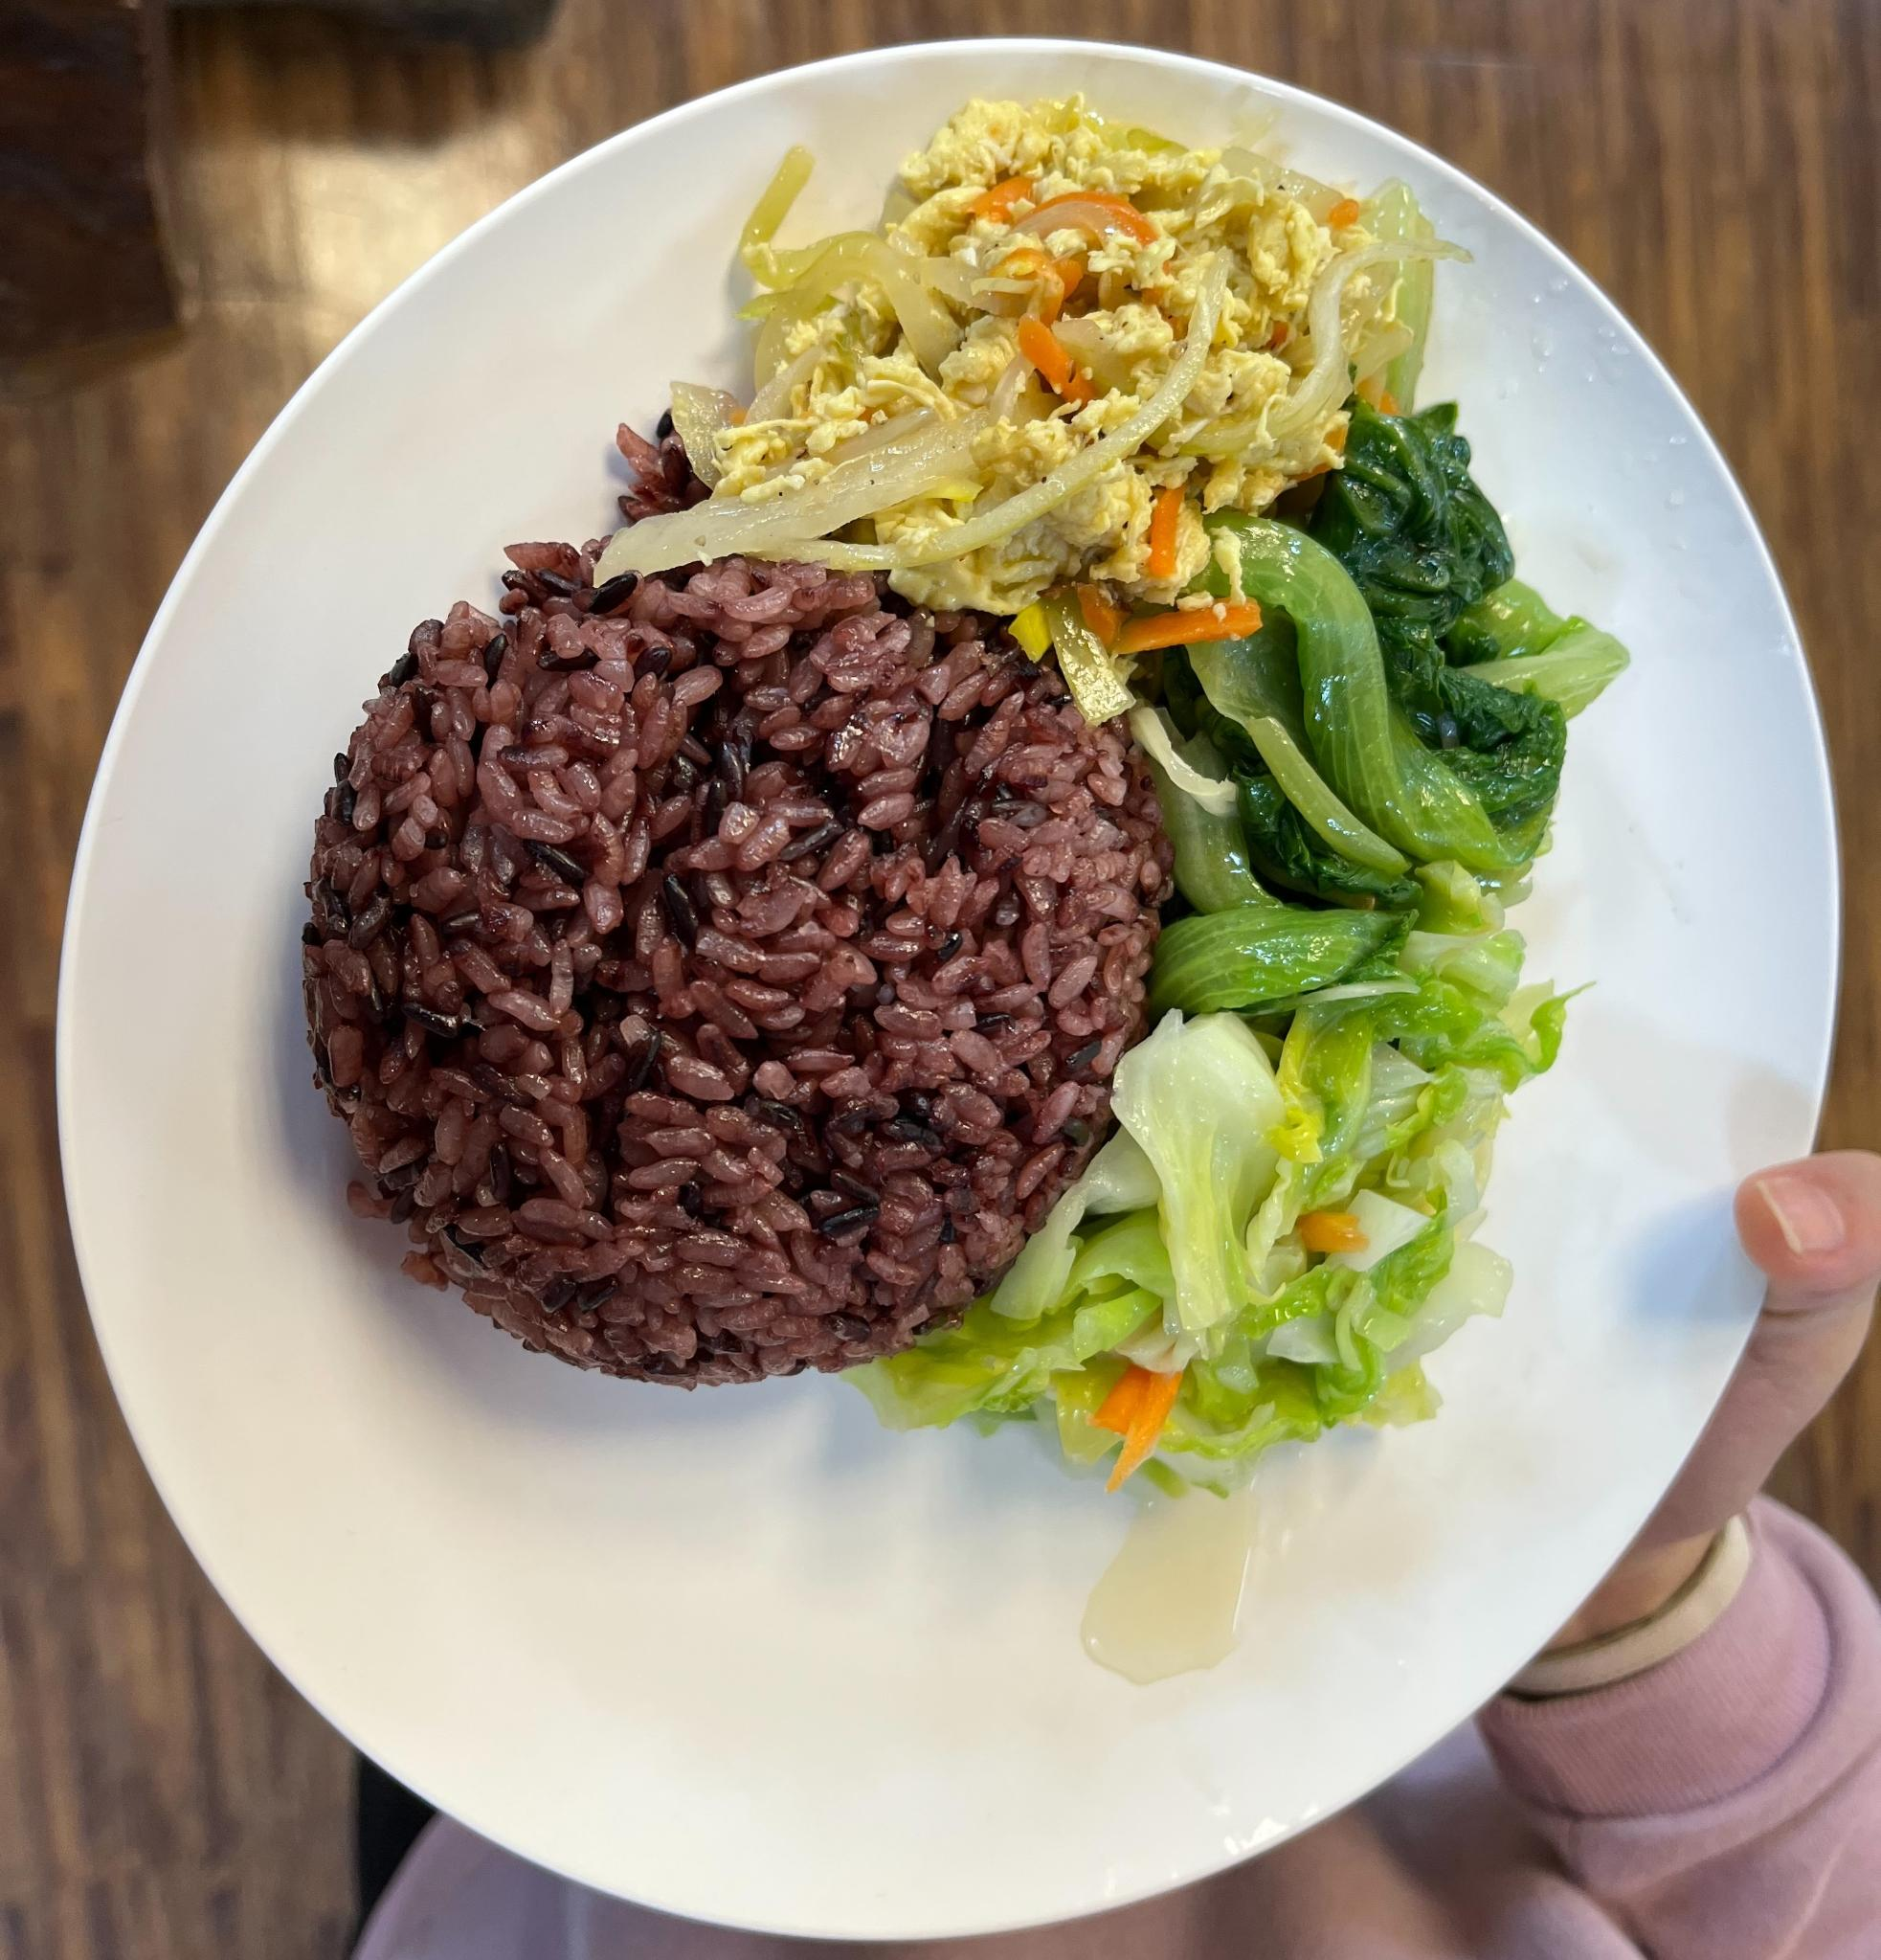big fried chicken leg: (63, 45, 1850, 1949)
braised fish: (282, 525, 1132, 1402)
braised fish fillet: (646, 107, 1451, 602), (919, 947, 1557, 1507), (1113, 399, 1624, 1013)
